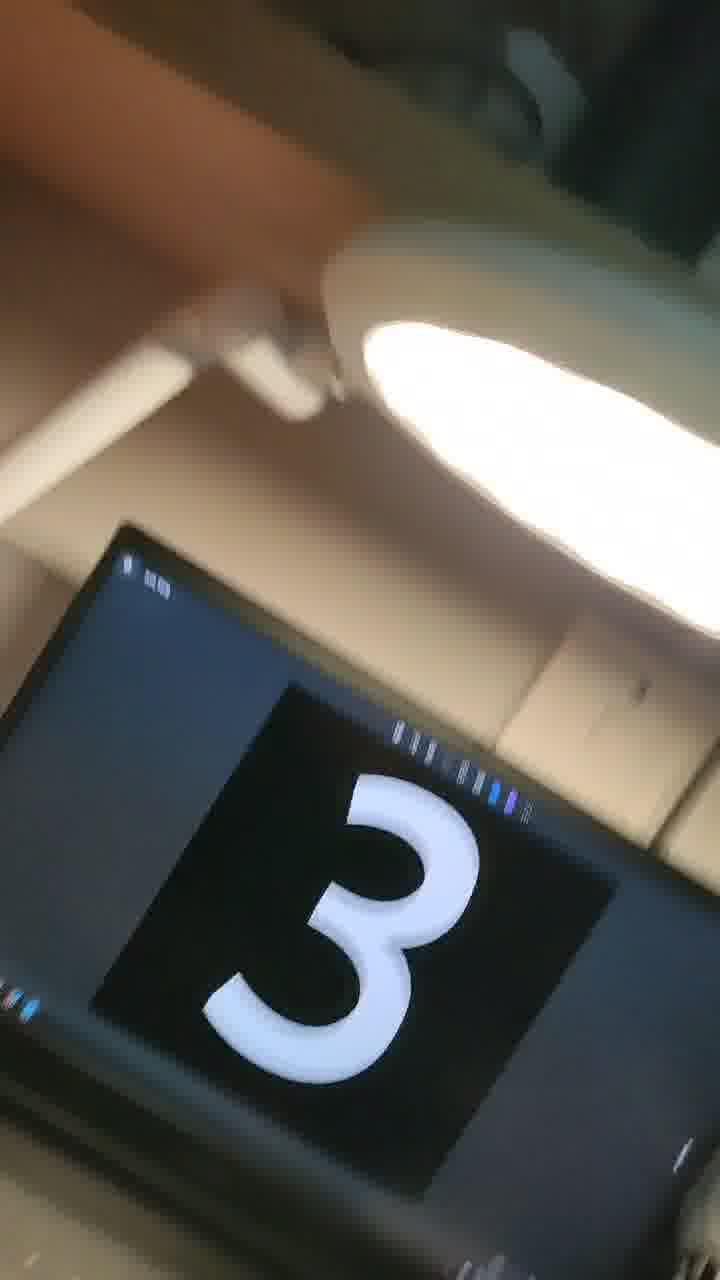three: (183, 707, 492, 1133)
